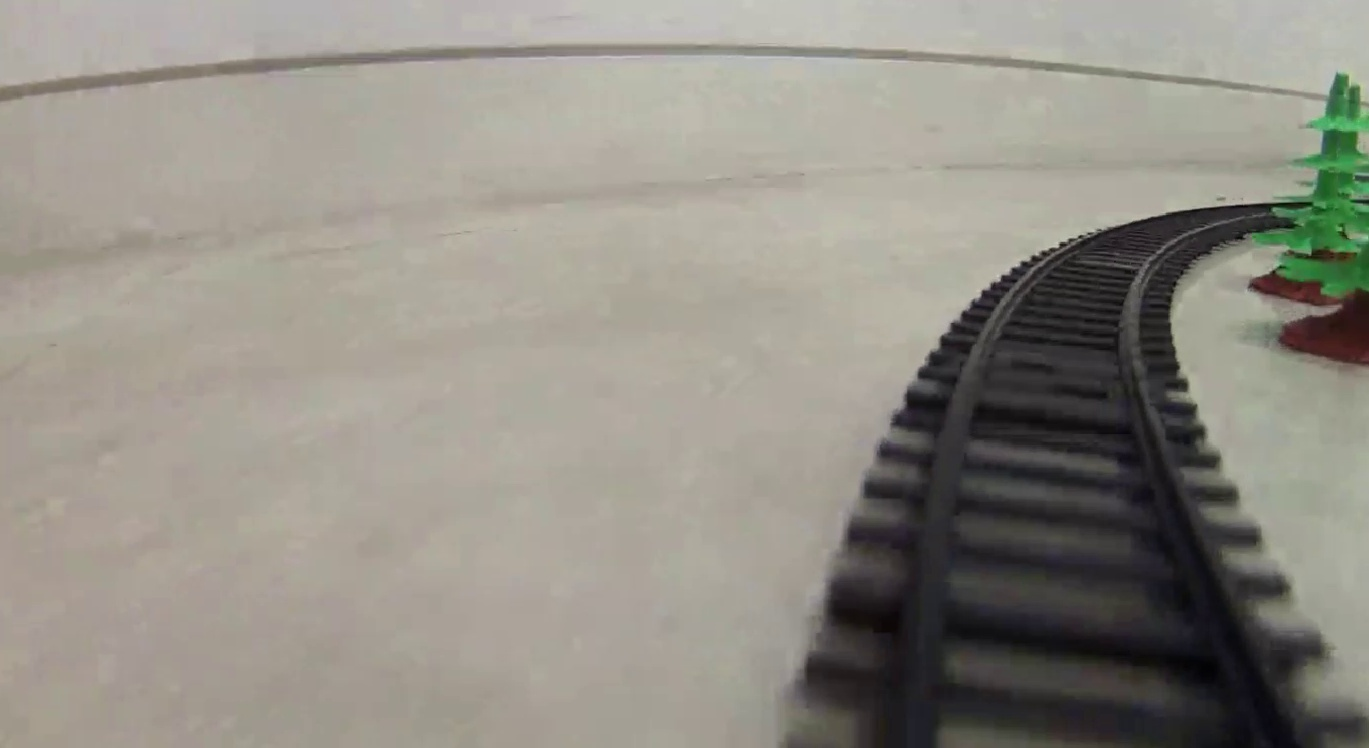tree: (1255, 70, 1361, 311)
